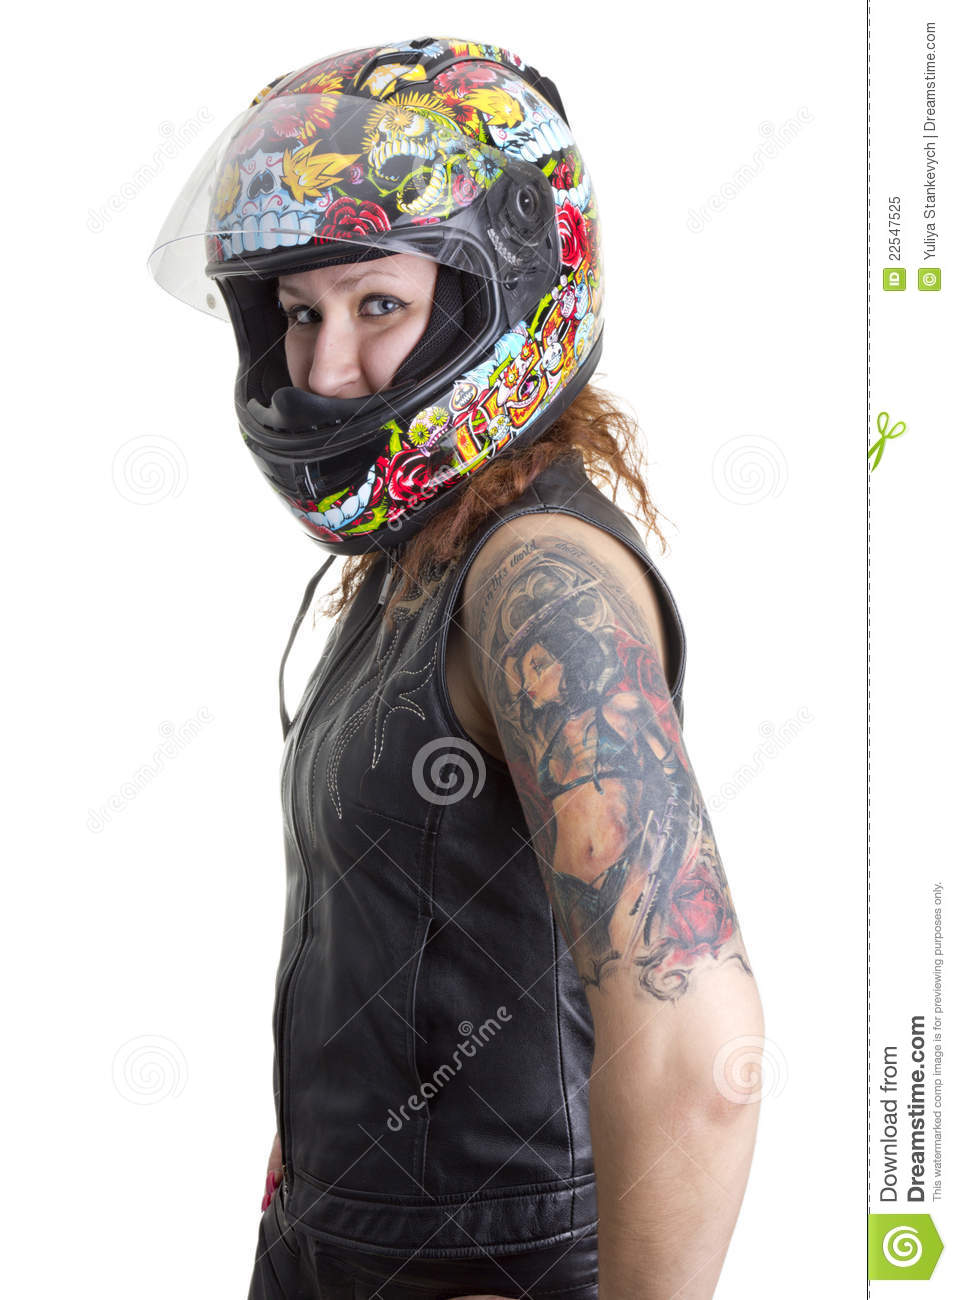helmet: (200, 43, 608, 525)
